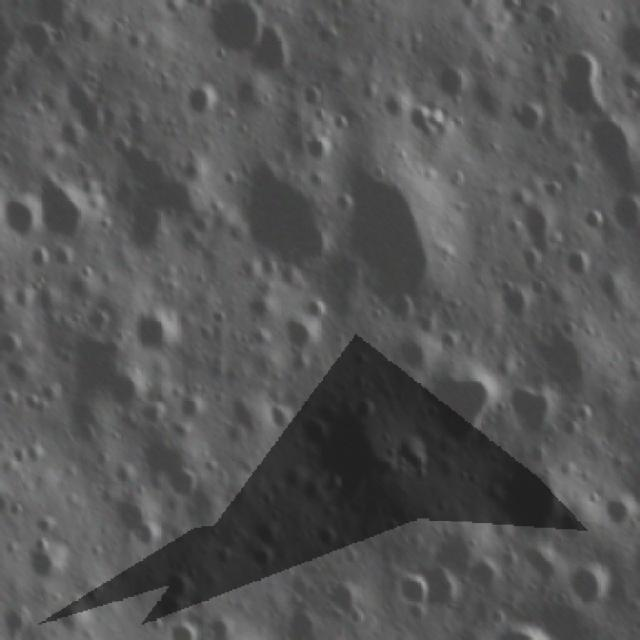crater: (336, 146, 469, 306), (293, 387, 405, 504), (236, 157, 341, 272), (411, 355, 506, 447), (62, 326, 150, 412), (492, 456, 573, 546), (532, 315, 612, 397), (553, 42, 618, 125), (578, 113, 640, 185), (158, 162, 216, 235), (34, 174, 94, 241), (207, 0, 271, 60), (505, 380, 563, 446), (419, 558, 472, 620), (468, 604, 557, 640), (248, 24, 298, 87), (323, 575, 374, 636), (558, 557, 614, 612), (107, 484, 162, 536), (130, 306, 184, 356), (386, 558, 436, 611), (408, 94, 452, 154), (506, 92, 551, 145), (0, 192, 49, 240), (136, 587, 192, 628), (279, 310, 323, 361), (27, 536, 73, 584), (390, 330, 433, 381), (468, 553, 512, 599), (54, 592, 97, 636), (435, 56, 476, 101), (606, 186, 640, 240), (611, 12, 640, 74), (598, 494, 640, 535), (392, 435, 434, 476), (158, 566, 204, 602), (493, 282, 533, 322), (162, 467, 204, 505), (378, 288, 418, 326), (299, 133, 341, 169), (124, 520, 168, 554), (261, 396, 301, 433), (575, 200, 613, 238), (308, 518, 346, 556), (618, 523, 640, 586), (560, 247, 597, 284), (293, 79, 329, 115), (174, 388, 208, 423), (134, 398, 169, 430), (156, 620, 204, 640), (29, 510, 56, 544), (250, 543, 279, 572)
